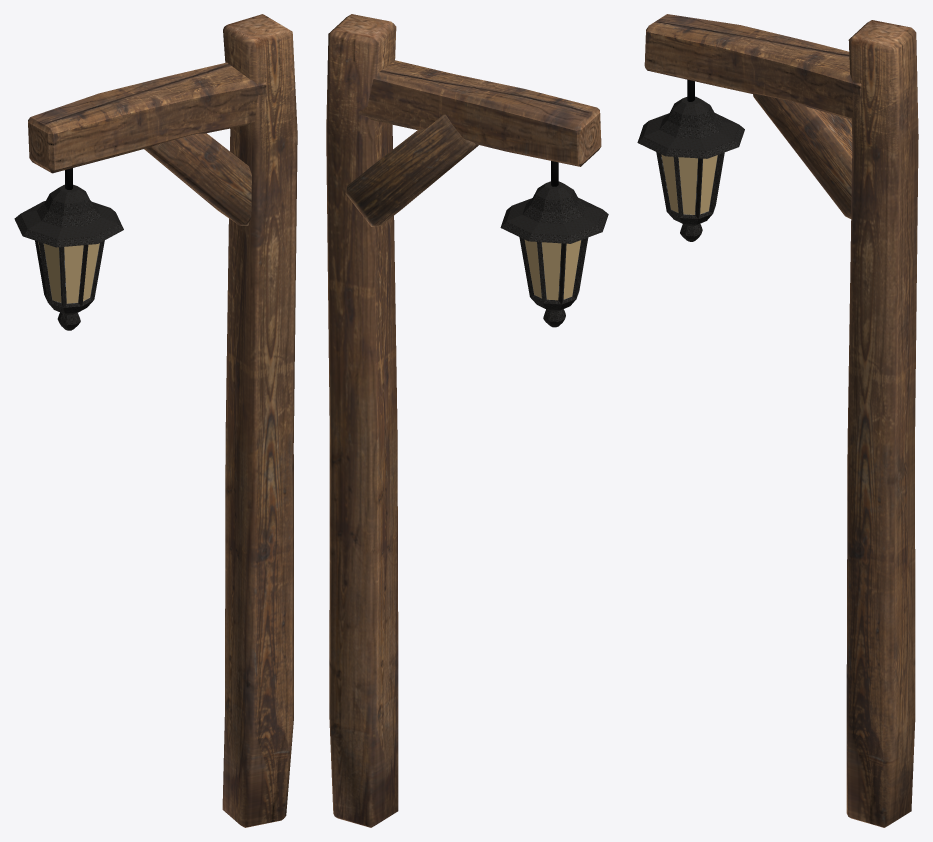
Rendered from Fashlight big.fbx.
3 views of the same model, side by side, from view 1: azimuth 30°, elevation 25°; view 2: azimuth 150°, elevation 25°; view 3: azimuth 330°, elevation 25° (orthographic).
Visible parts, largest first — view 1: Fashlight big; view 2: Fashlight big; view 3: Fashlight big.
Part boxes in pixels (x1,y1,x2,y2): Fashlight big: (14, 14, 297, 827); Fashlight big: (326, 14, 608, 827); Fashlight big: (637, 14, 918, 827).
Bounding box in the file's own units: 1.8 × 5.09 × 0.6398.
